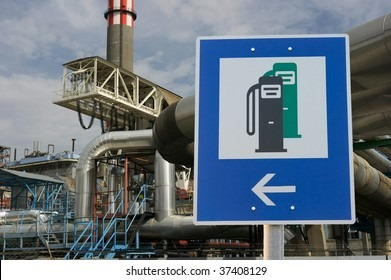fuel-station: (220, 58, 327, 156)
left turn: (250, 171, 297, 206)
